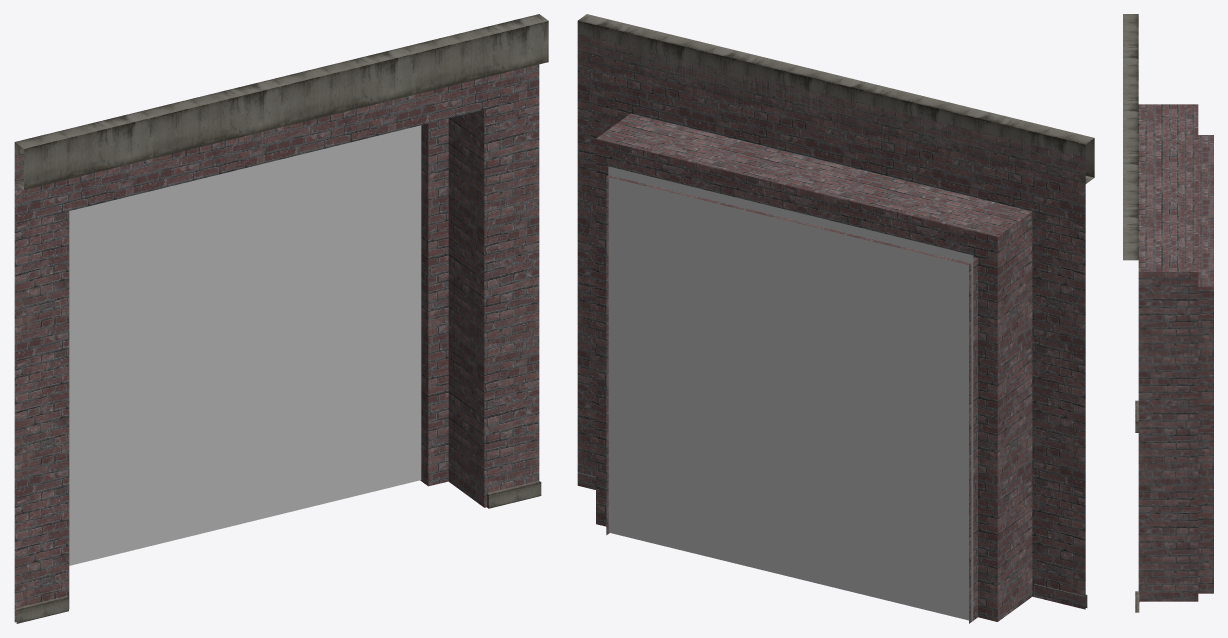
Rendered from Wall_A_Brick_DoorRoll_D_4x.FBX.
3 renders of one model, left to right at view 1: azimuth 30°, elevation 25°; view 2: azimuth 150°, elevation 25°; view 3: azimuth 270°, elevation 25°, orthographic. The views are drawn at different scales.
Visible parts, largest first — view 1: Wall_A_Brick_DoorRoll_D_4x; view 2: Wall_A_Brick_DoorRoll_D_4x; view 3: Wall_A_Brick_DoorRoll_D_4x.
Boxes of the visible parts, box(x1,y1,x2,y2) form: Wall_A_Brick_DoorRoll_D_4x: box(14, 14, 548, 623); Wall_A_Brick_DoorRoll_D_4x: box(577, 14, 1094, 623); Wall_A_Brick_DoorRoll_D_4x: box(1123, 14, 1213, 612).
Bounding box in the file's own units: 400 × 350 × 72.43.
